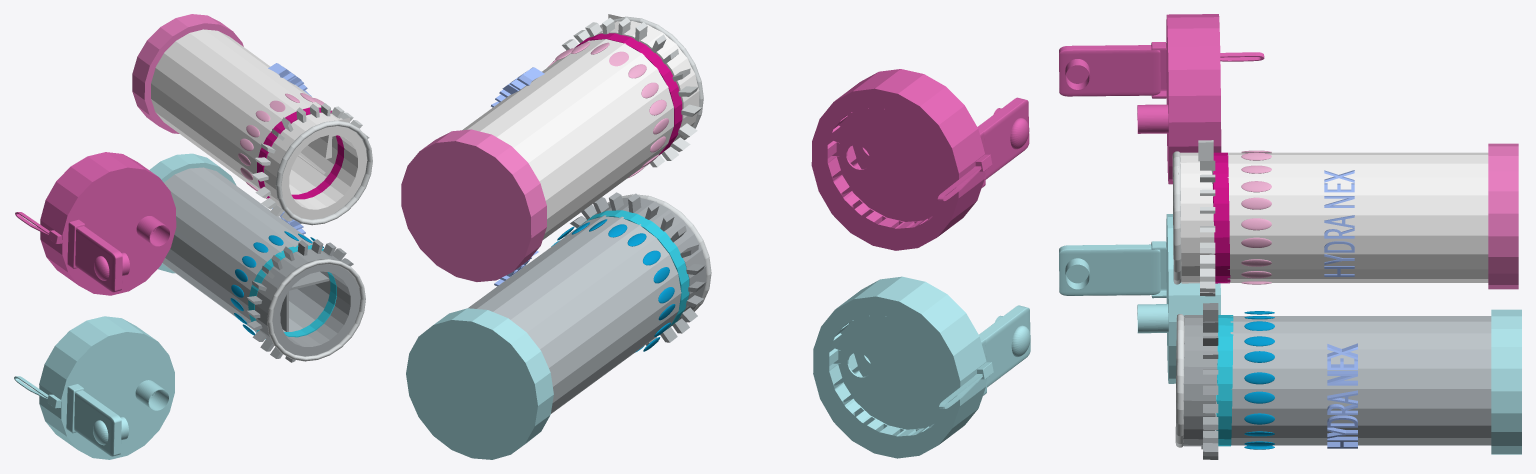
The model's file is tinker.obj.
3 views of the same model, side by side, from view 1: azimuth 30°, elevation 25°; view 2: azimuth 150°, elevation 25°; view 3: azimuth 270°, elevation 25° (orthographic). The views are drawn at different scales.
Visible parts, largest first — view 1: group_0_16448250, group_0_11593967, group_0_14967733, group_0_12568524, group_0_10988977, group_0_14541540, group_0_15695557, group_0_14093196, group_0_3198694, group_0_15708628, group_0_40919, group_0_10665982; view 2: group_0_11593967, group_0_14967733, group_0_16448250, group_0_12568524, group_0_15695557, group_0_10988977, group_0_14541540, group_0_15708628, group_0_3198694, group_0_40919, group_0_14093196, group_0_10665982; view 3: group_0_16448250, group_0_12568524, group_0_14967733, group_0_11593967, group_0_10988977, group_0_15695557, group_0_10665982, group_0_14541540, group_0_40919, group_0_15708628, group_0_14093196, group_0_3198694.
Part boxes in pixels (x1,y1,x2,y2): group_0_16448250: (151, 29, 367, 219); group_0_11593967: (14, 153, 236, 459); group_0_14967733: (15, 152, 176, 295); group_0_12568524: (162, 167, 330, 332); group_0_10988977: (247, 239, 360, 362); group_0_14541540: (252, 103, 372, 361); group_0_15695557: (132, 14, 243, 133); group_0_14093196: (257, 107, 344, 199); group_0_3198694: (248, 245, 336, 339); group_0_15708628: (238, 93, 331, 198); group_0_40919: (230, 231, 323, 335); group_0_10665982: (268, 63, 311, 234); group_0_11593967: (406, 276, 1030, 459); group_0_14967733: (811, 69, 1029, 250); group_0_16448250: (462, 14, 699, 239); group_0_12568524: (468, 215, 681, 413); group_0_15695557: (401, 129, 546, 281); group_0_10988977: (565, 192, 706, 345); group_0_14541540: (553, 16, 711, 311); group_0_15708628: (547, 42, 668, 177); group_0_3198694: (577, 210, 689, 330); group_0_40919: (551, 219, 675, 352); group_0_14093196: (574, 33, 682, 155); group_0_10665982: (491, 67, 544, 286); group_0_16448250: (1178, 152, 1488, 283); group_0_12568524: (1230, 316, 1491, 445); group_0_14967733: (1059, 14, 1264, 184); group_0_11593967: (1059, 214, 1521, 454); group_0_10988977: (1183, 303, 1218, 459); group_0_15695557: (1488, 143, 1518, 289); group_0_10665982: (1324, 170, 1357, 448); group_0_14541540: (1172, 140, 1215, 447); group_0_40919: (1244, 311, 1274, 449); group_0_15708628: (1241, 150, 1271, 284); group_0_14093196: (1212, 152, 1230, 283); group_0_3198694: (1216, 315, 1233, 446).
Bounding box in the file's own units: 304 × 253 × 302.
